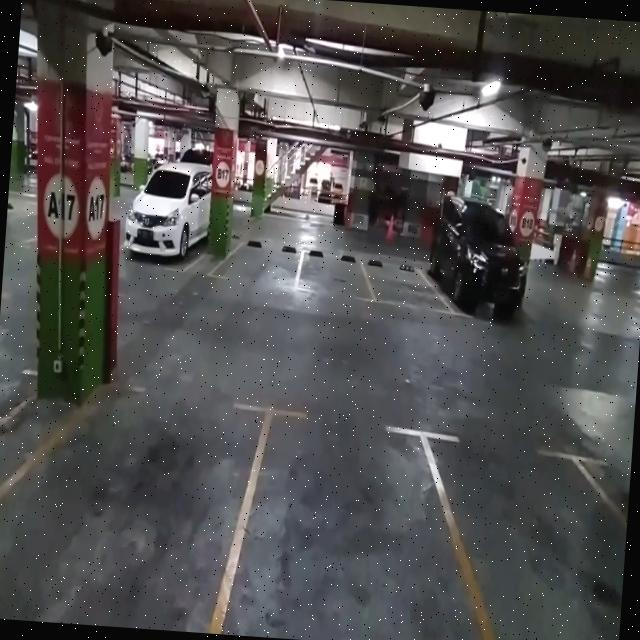empty: (221, 402, 478, 640), (222, 235, 304, 289), (366, 252, 436, 308), (297, 248, 370, 299)
occupied: (118, 168, 212, 272), (429, 225, 528, 320)
